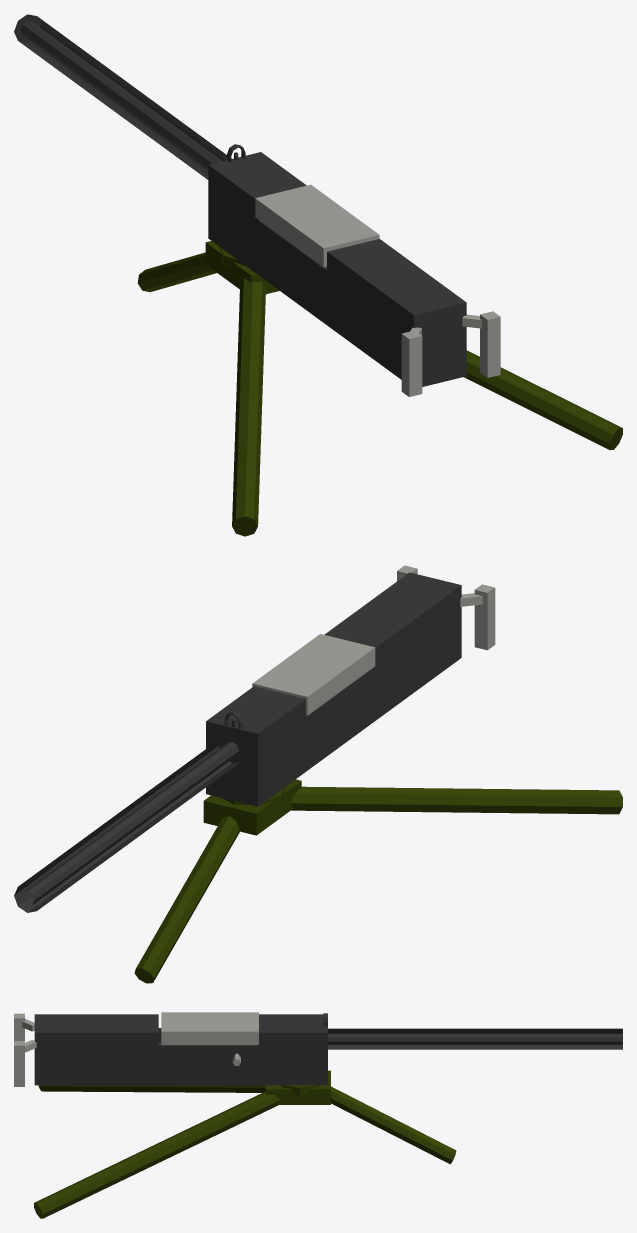
3 views of the same model, one above another, from view 1: azimuth 30°, elevation 25°; view 2: azimuth 150°, elevation 25°; view 3: azimuth 270°, elevation 25° (orthographic). The views are drawn at different scales.
Parts seen in each view (by area): view 1: Receiver, Barrel, Cylinder.002, Cover, Cylinder.003, Cylinder.004, Handles; view 2: Receiver, Barrel, Cylinder.002, Cylinder.004, Cover, Handles; view 3: Receiver, Barrel, Cylinder.003, Cover, Cylinder.004, Cylinder.002, Handles.
Boxes of the visible parts, x1=… form: Receiver: x1=208, y1=152, x2=466, y2=386; Barrel: x1=14, y1=14, x2=231, y2=179; Cylinder.002: x1=232, y1=278, x2=265, y2=536; Cover: x1=255, y1=184, x2=379, y2=267; Cylinder.003: x1=464, y1=350, x2=622, y2=450; Cylinder.004: x1=137, y1=241, x2=279, y2=294; Handles: x1=401, y1=311, x2=500, y2=396; Receiver: x1=206, y1=572, x2=461, y2=806; Barrel: x1=14, y1=737, x2=240, y2=912; Cylinder.002: x1=290, y1=786, x2=622, y2=814; Cylinder.004: x1=134, y1=779, x2=301, y2=983; Cover: x1=252, y1=634, x2=375, y2=715; Handles: x1=397, y1=565, x2=495, y2=650; Receiver: x1=34, y1=1014, x2=327, y2=1085; Barrel: x1=328, y1=1028, x2=622, y2=1049; Cylinder.003: x1=34, y1=1091, x2=279, y2=1218; Cover: x1=161, y1=1012, x2=258, y2=1044; Cylinder.004: x1=266, y1=1070, x2=456, y2=1164; Cylinder.002: x1=38, y1=1085, x2=265, y2=1092; Handles: x1=14, y1=1013, x2=24, y2=1086.
Size of the model in its own units: 0.5981 by 0.3111 by 1.14.
